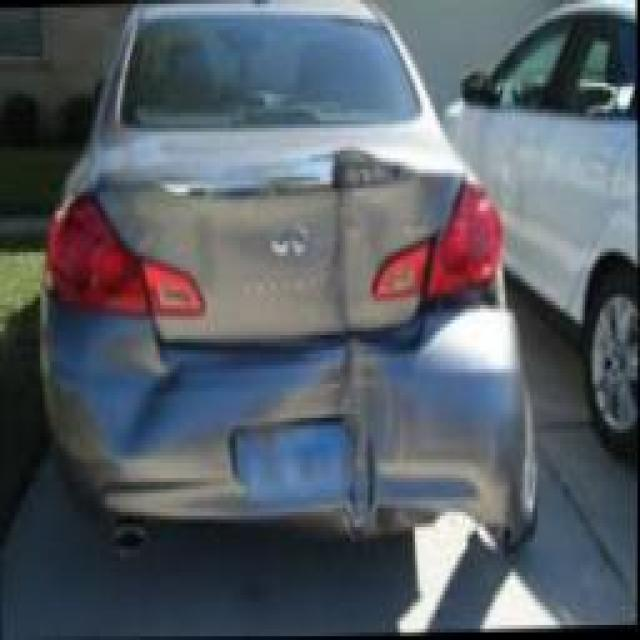Bumper: (37, 279, 538, 545)
Dickey: (97, 141, 469, 345)
